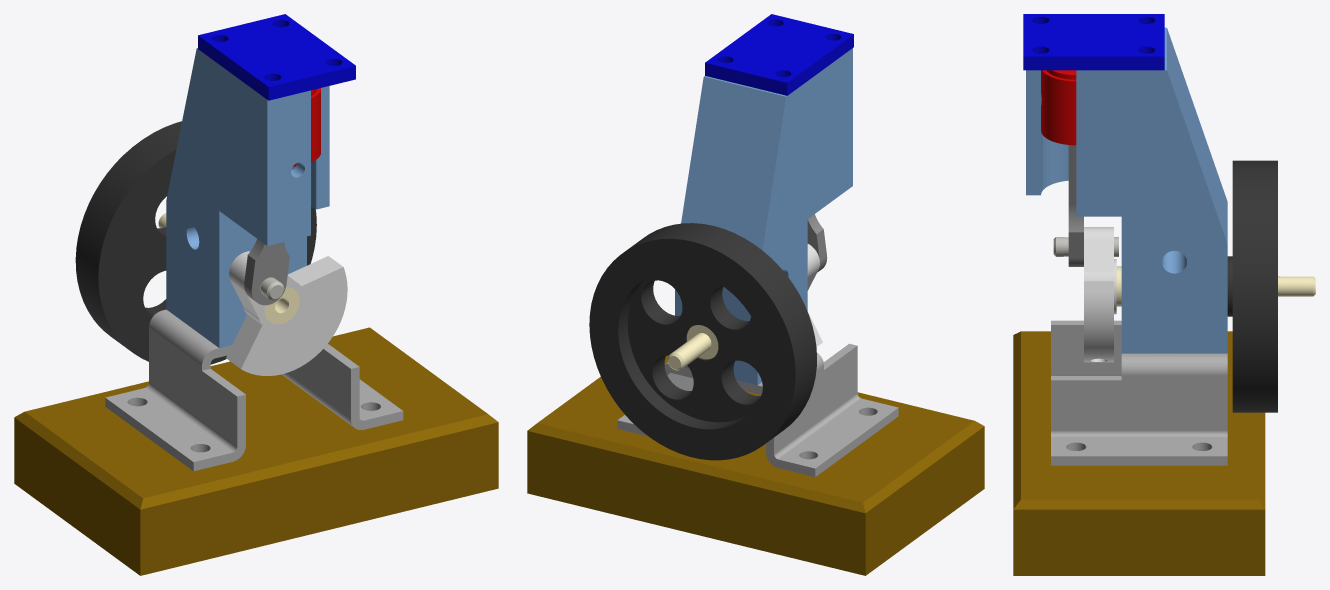
3 renders of one model, left to right at view 1: azimuth 30°, elevation 25°; view 2: azimuth 150°, elevation 25°; view 3: azimuth 270°, elevation 25°, orthographic. The views are drawn at different scales.
Parts seen in each view (by area): view 1: 01_base_plate v1.iges-1, 03_Engine_Block v2.iges-1, 02_Mounting_bracket v1.iges-1, 5_Fly_wheel v1.iges-1, 07_cranck v1.iges-1, 04_cylinder_head v1.iges-1, 08_connecting_rod v1.iges-1, 06_cranckshaft v1.iges-1, 09_piston v1.iges-1; view 2: 01_base_plate v1.iges-1, 5_Fly_wheel v1.iges-1, 03_Engine_Block v2.iges-1, 02_Mounting_bracket v1.iges-1, 04_cylinder_head v1.iges-1, 06_cranckshaft v1.iges-1, 08_connecting_rod v1.iges-1; view 3: 03_Engine_Block v2.iges-1, 01_base_plate v1.iges-1, 02_Mounting_bracket v1.iges-1, 5_Fly_wheel v1.iges-1, 04_cylinder_head v1.iges-1, 07_cranck v1.iges-1, 09_piston v1.iges-1, 08_connecting_rod v1.iges-1, 06_cranckshaft v1.iges-1, 10_crank_pin v1.iges-1.
Part boxes in pixels (<box>): 01_base_plate v1.iges-1: <box>14,327,498,575</box>; 03_Engine_Block v2.iges-1: <box>166,48,329,348</box>; 02_Mounting_bracket v1.iges-1: <box>105,309,403,471</box>; 5_Fly_wheel v1.iges-1: <box>75,121,316,364</box>; 07_cranck v1.iges-1: <box>226,251,347,375</box>; 04_cylinder_head v1.iges-1: <box>198,14,355,100</box>; 08_connecting_rod v1.iges-1: <box>244,167,292,305</box>; 06_cranckshaft v1.iges-1: <box>158,213,299,324</box>; 09_piston v1.iges-1: <box>293,88,320,166</box>; 01_base_plate v1.iges-1: <box>527,355,984,575</box>; 5_Fly_wheel v1.iges-1: <box>589,223,816,460</box>; 03_Engine_Block v2.iges-1: <box>675,48,852,385</box>; 02_Mounting_bracket v1.iges-1: <box>617,343,898,476</box>; 04_cylinder_head v1.iges-1: <box>705,14,853,95</box>; 06_cranckshaft v1.iges-1: <box>667,325,718,370</box>; 08_connecting_rod v1.iges-1: <box>807,214,827,272</box>; 03_Engine_Block v2.iges-1: <box>1026,27,1227,353</box>; 01_base_plate v1.iges-1: <box>1013,331,1265,575</box>; 02_Mounting_bracket v1.iges-1: <box>1051,320,1227,465</box>; 5_Fly_wheel v1.iges-1: <box>1227,160,1277,412</box>; 04_cylinder_head v1.iges-1: <box>1023,14,1164,70</box>; 07_cranck v1.iges-1: <box>1084,227,1116,362</box>; 09_piston v1.iges-1: <box>1041,70,1076,145</box>; 08_connecting_rod v1.iges-1: <box>1068,145,1083,266</box>; 06_cranckshaft v1.iges-1: <box>1116,266,1315,306</box>; 10_crank_pin v1.iges-1: <box>1053,237,1118,256</box>.
Size of the model in its own units: 0.082 by 0.099 by 0.06.
